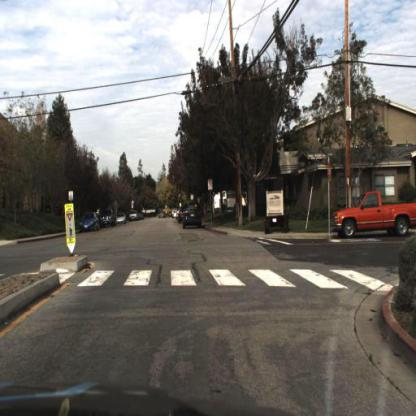car: (330, 183, 416, 246), (79, 208, 104, 237), (180, 203, 204, 232), (77, 211, 101, 234), (100, 207, 118, 232), (116, 209, 128, 227), (130, 208, 141, 222)
